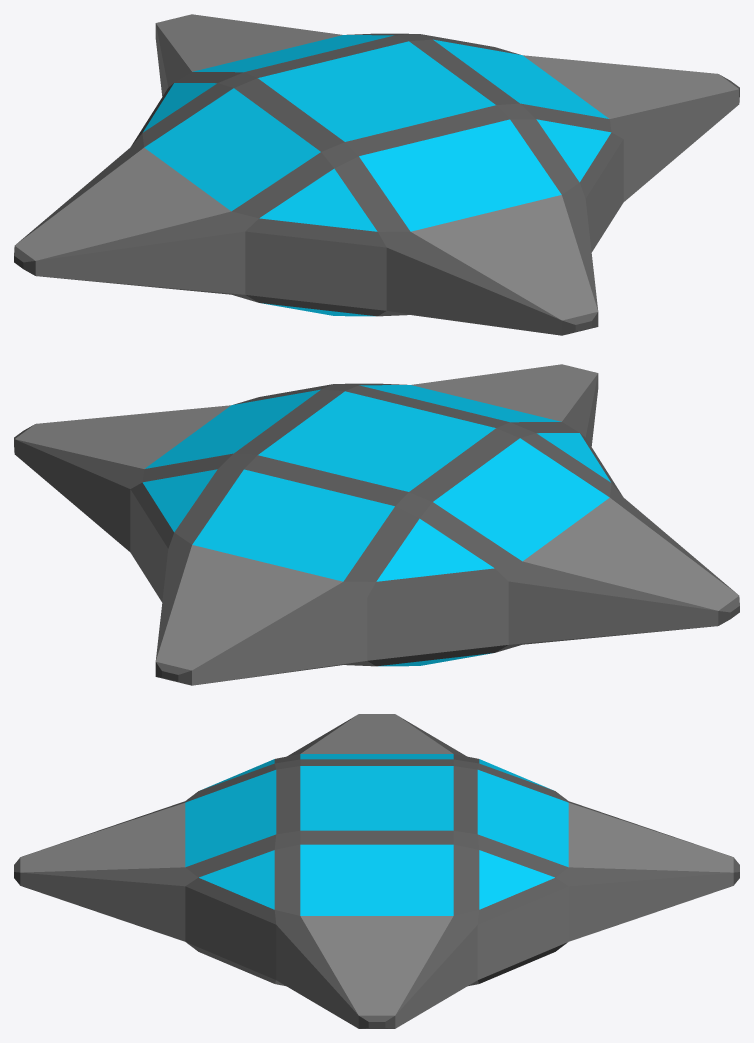
The model's file is Drone1.glb.
3 renders of one model, top to bottom at view 1: azimuth 30°, elevation 25°; view 2: azimuth 150°, elevation 25°; view 3: azimuth 270°, elevation 25°, orthographic. The views are drawn at different scales.
Parts seen in each view (by area): view 1: Cube; view 2: Cube; view 3: Cube.
Boxes of the visible parts, bbox=[...] form: Cube: bbox=[14, 14, 739, 335]; Cube: bbox=[14, 364, 739, 685]; Cube: bbox=[14, 714, 739, 1028].
Size of the model in its own units: 9 by 2 by 9.
1 material, 1 textured.
